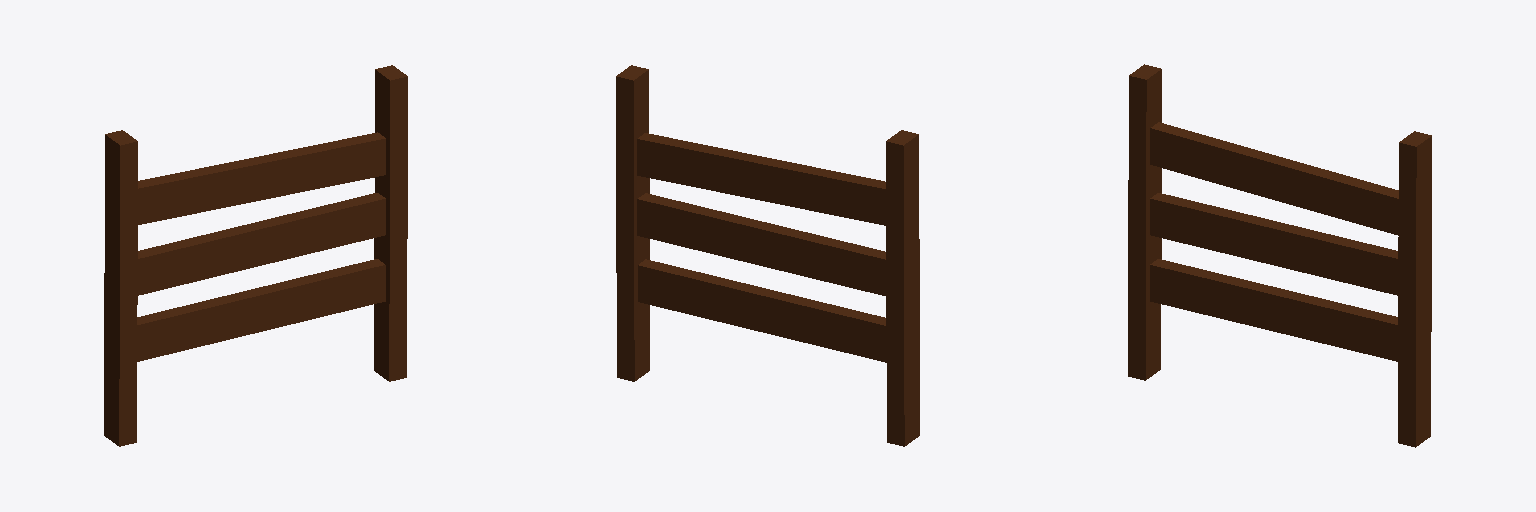
The model's file is fence1.obj.
3 renders of one model, left to right at view 1: azimuth 30°, elevation 25°; view 2: azimuth 150°, elevation 25°; view 3: azimuth 330°, elevation 25°, orthographic.
Visible parts, largest first — view 1: Object.1; view 2: Object.1; view 3: Object.1.
Boxes of the visible parts, box(x1,y1,x2,y2) form: Object.1: box(104, 65, 407, 446); Object.1: box(616, 65, 919, 446); Object.1: box(1128, 64, 1431, 447).
Bounding box in the file's own units: 1 × 1 × 0.0931.